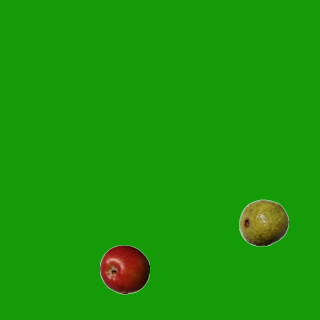Apple Braeburn: (99, 244, 149, 294)
Guava: (238, 197, 288, 247)
